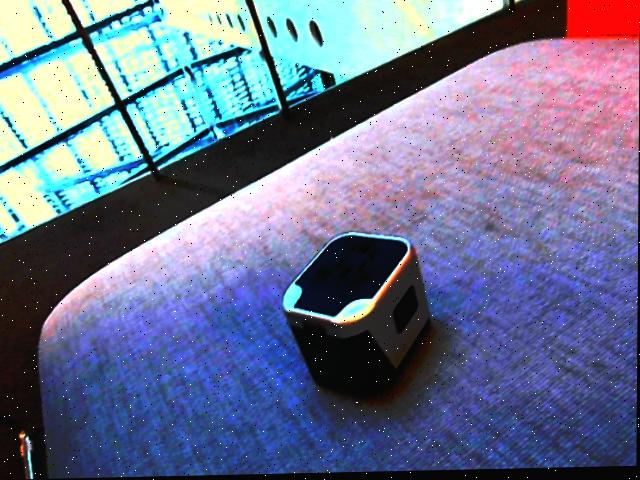adapter: (281, 231, 431, 401)
